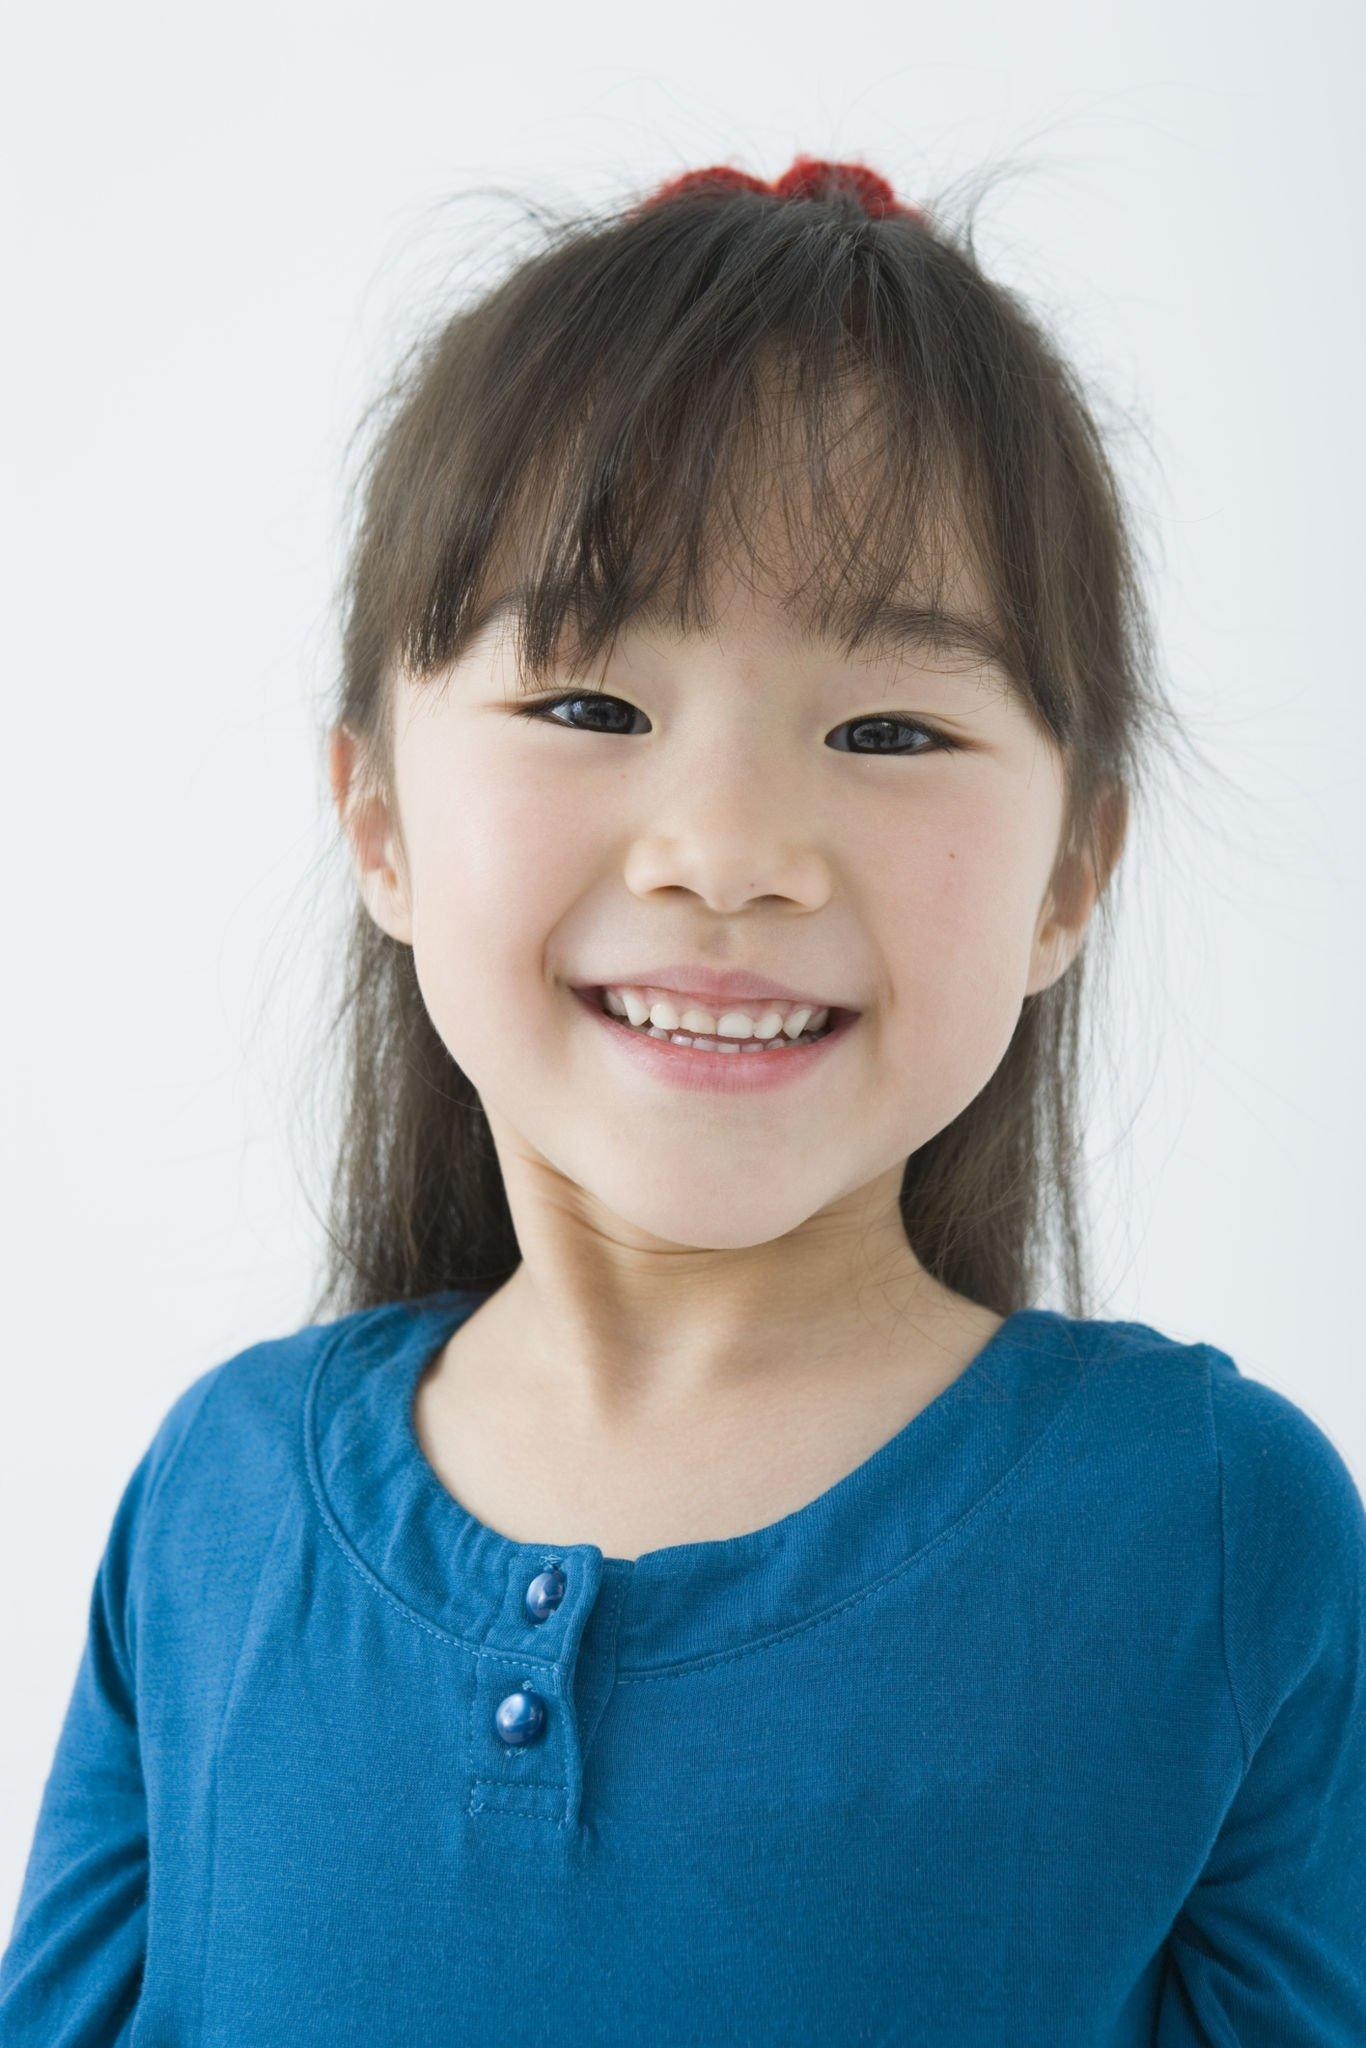Healthy: (337, 306, 1145, 1256)
